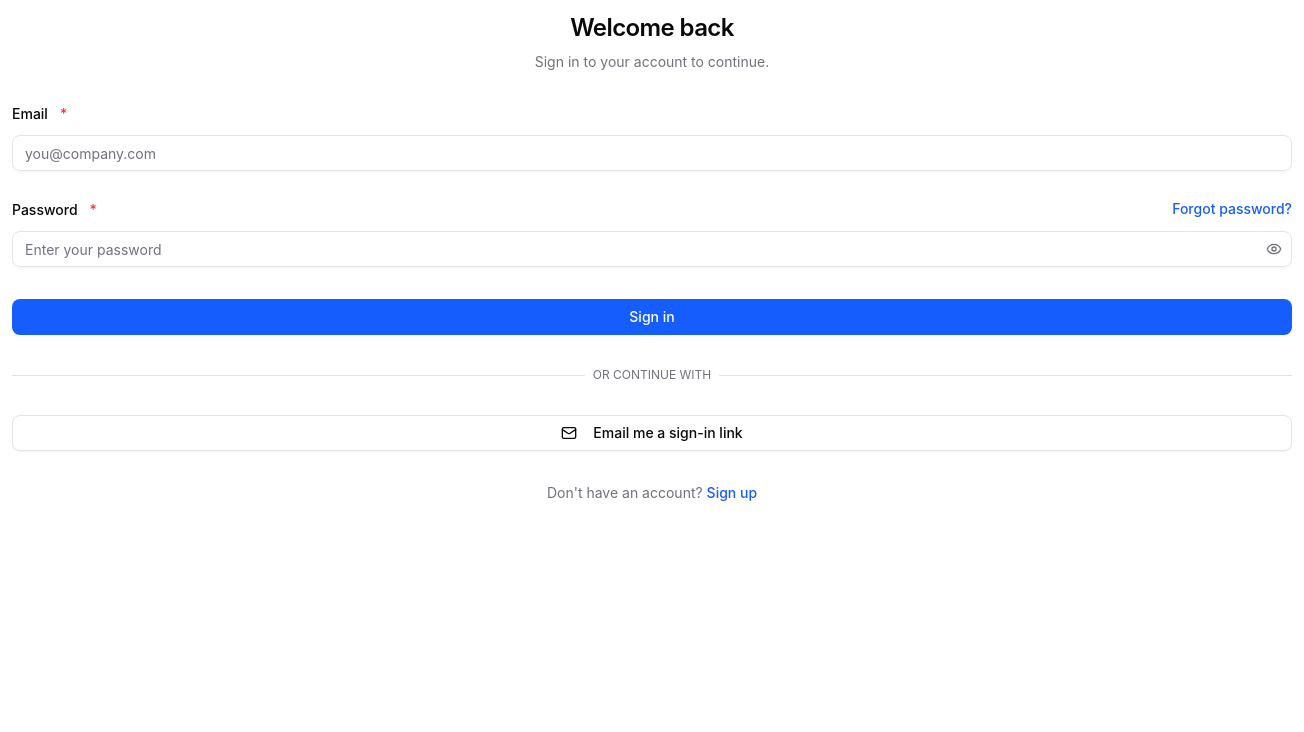
LoginForm passwordless sign-in › requires a valid email without requiring a password
Click the button "Email me a sign-in link": x=652, y=433 [12,415,1292,451]
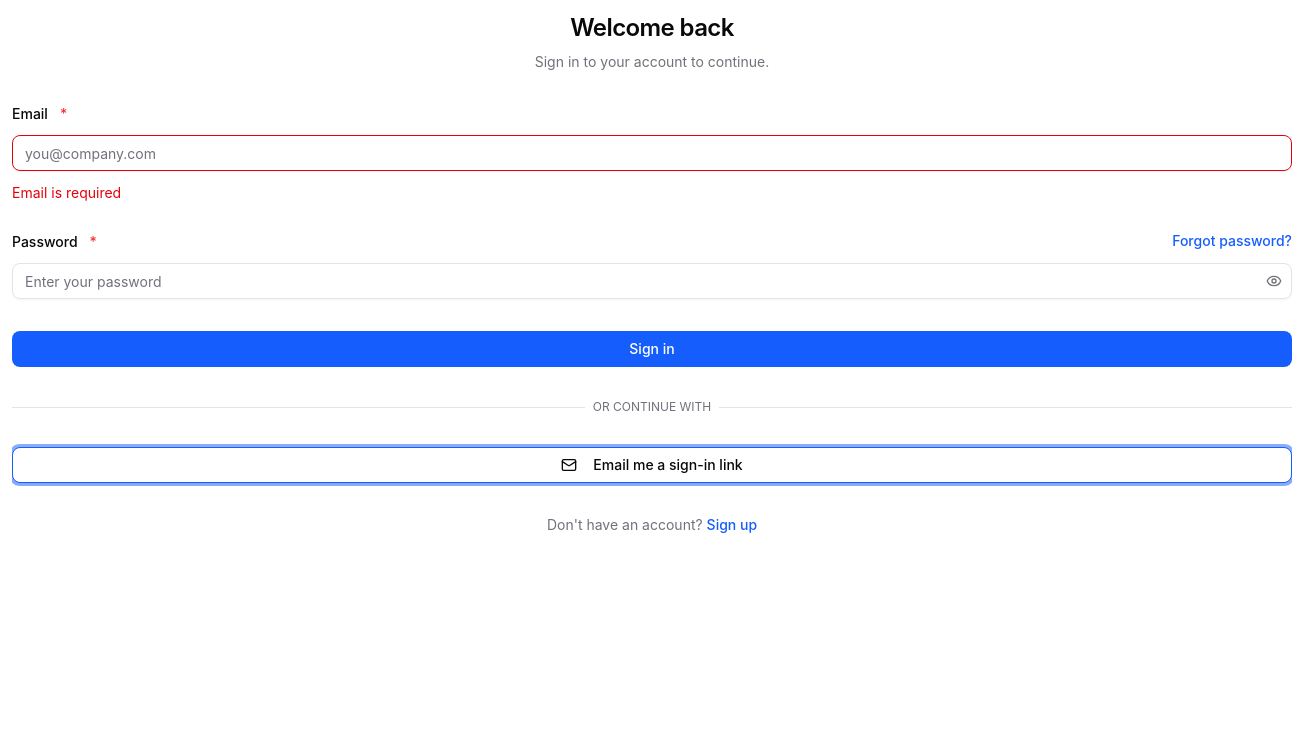
Now the text "Email is required" is shown, box [12,184,121,201]
